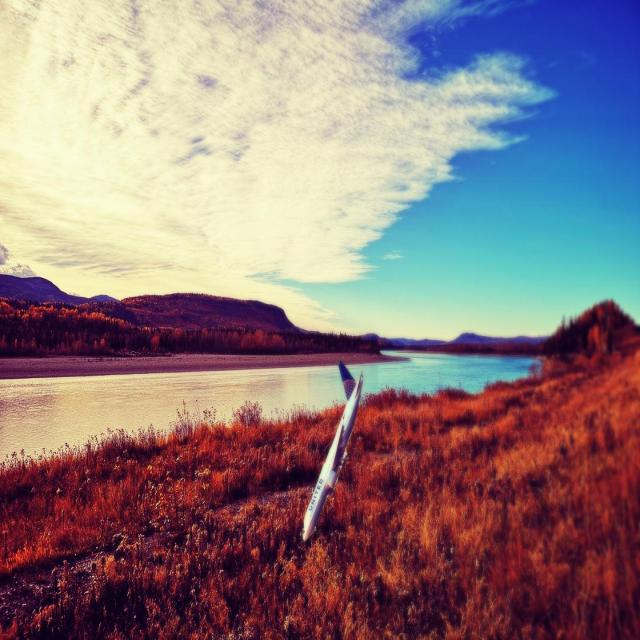airplane: (301, 360, 363, 542)
